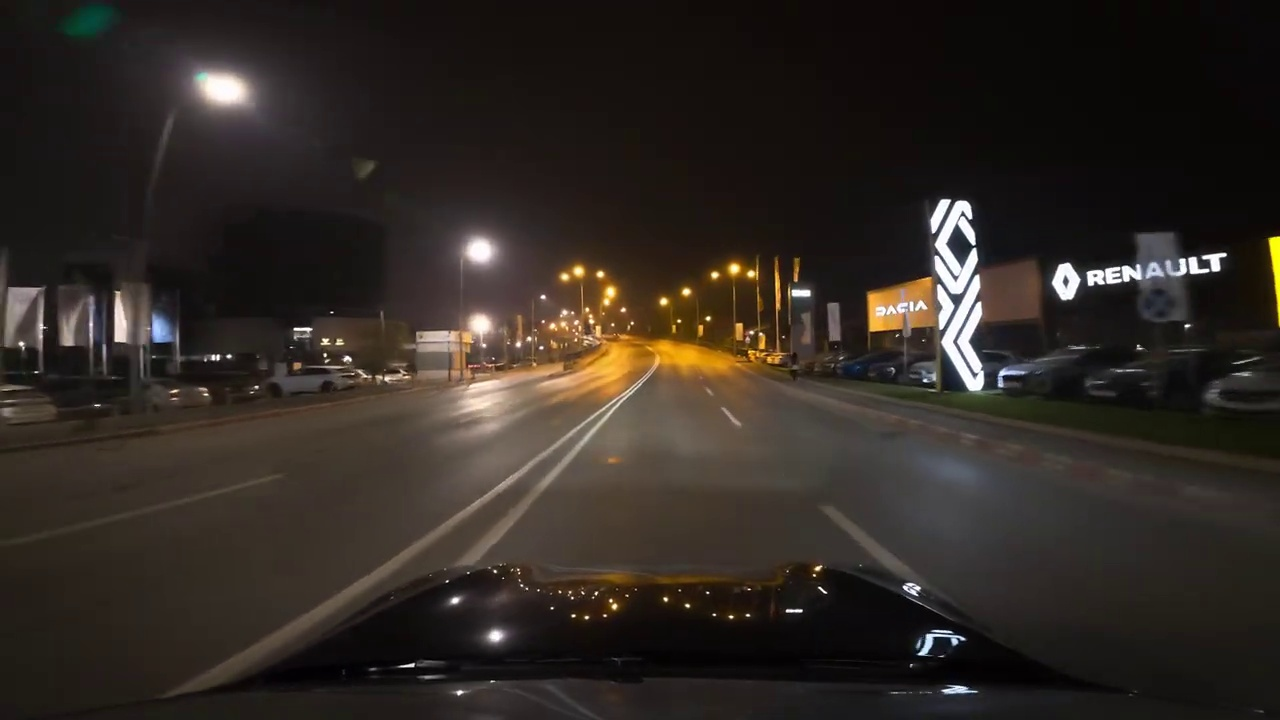acesa: (198, 73, 247, 107), (464, 236, 496, 266), (354, 156, 377, 181), (722, 262, 749, 282), (562, 264, 585, 284)
